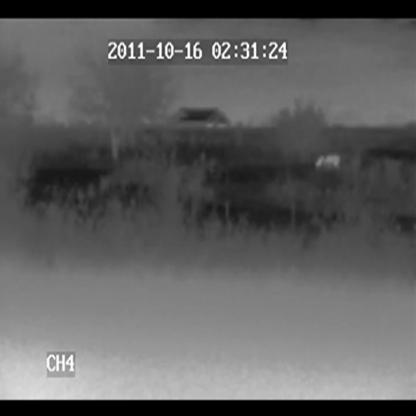rehkitze: (315, 154, 341, 170)
